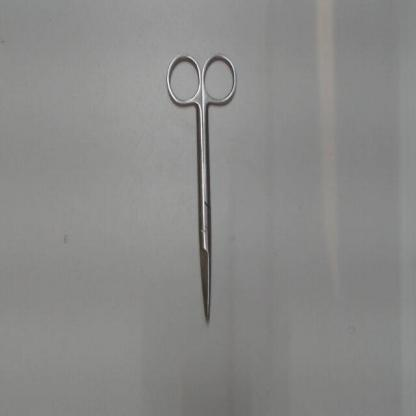Curved Mayo Scissors: (161, 48, 241, 325)
